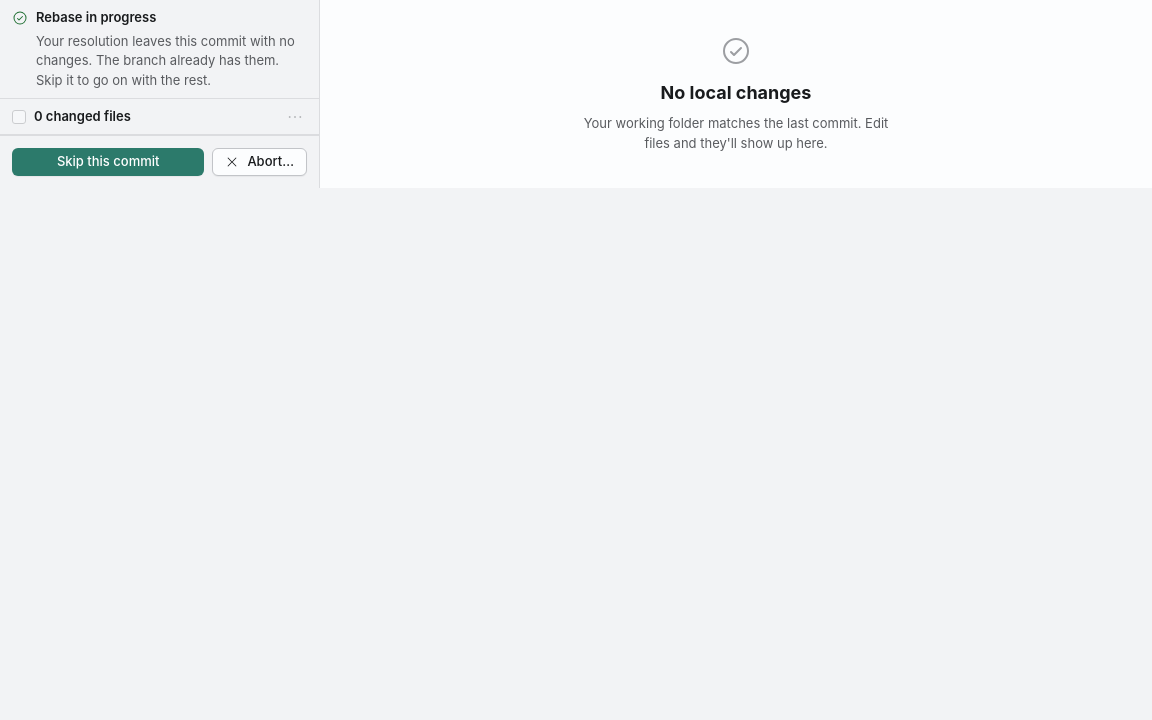
Scenario: conflict resolution › says so when skipping stops at another empty commit
Step 1. Click the button "Skip this commit" → click(108, 162), box x1=12 y1=148 x2=204 y2=176
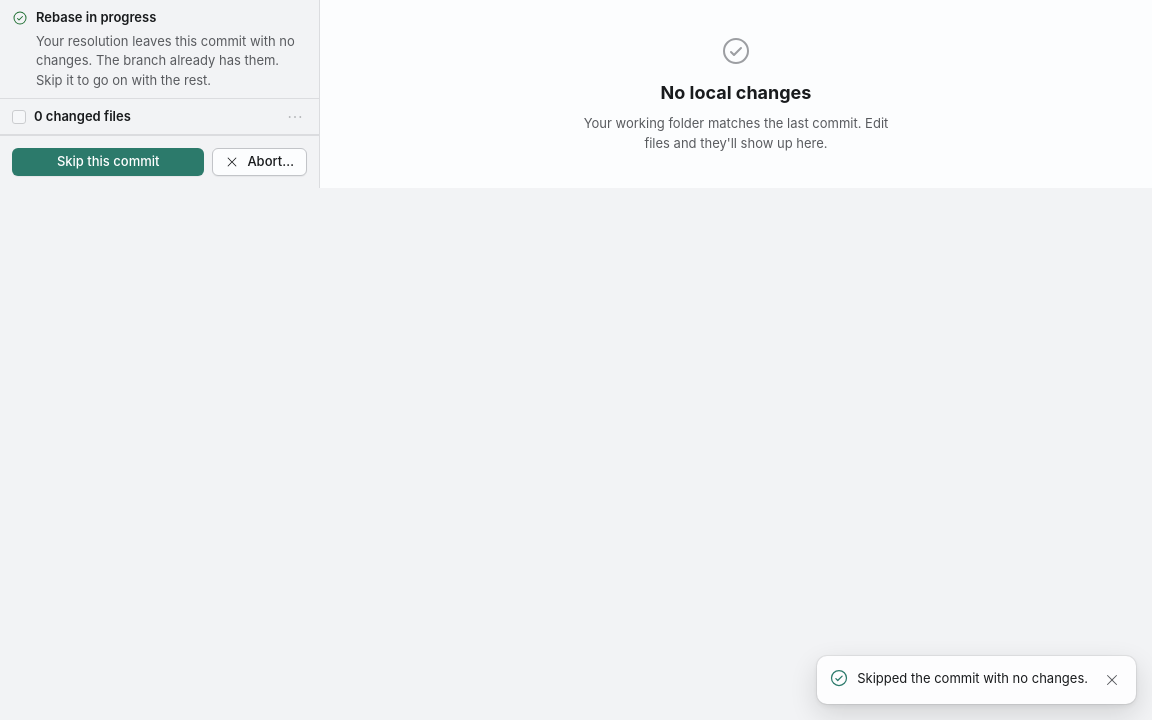
Check: the text "Skipped the commit with no changes." is shown, box x1=857 y1=669 x2=1088 y2=688
